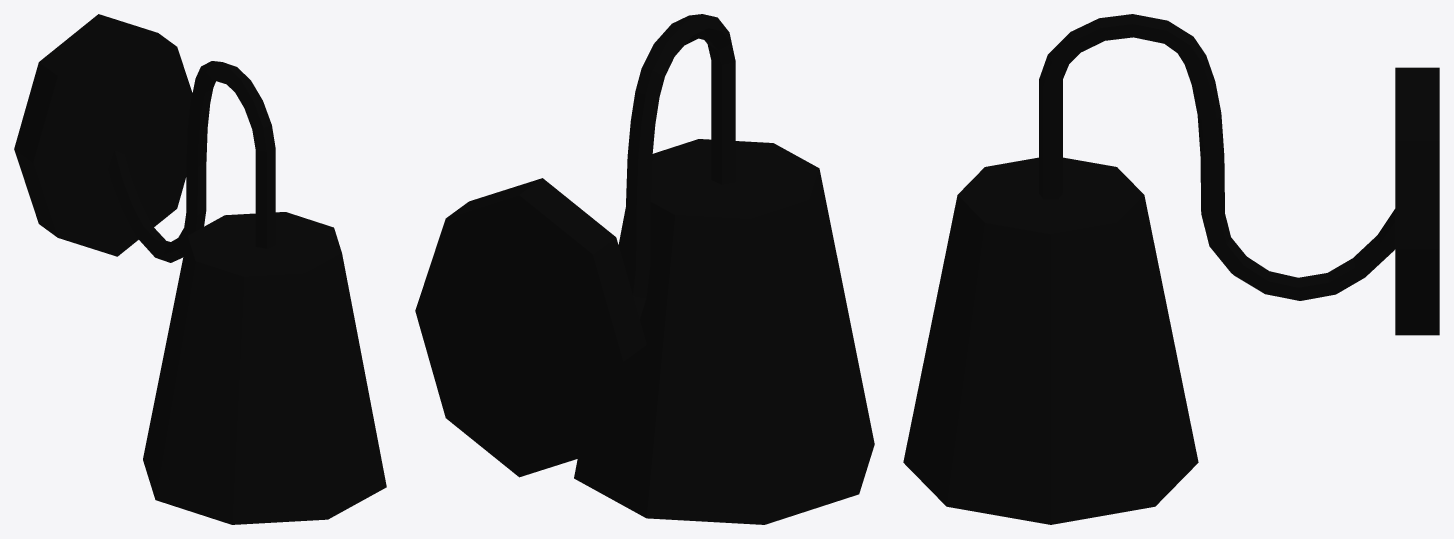
File: WallLight_On.glb
The picture shows the model from 3 angles, left to right: view 1: azimuth 30°, elevation 25°; view 2: azimuth 150°, elevation 25°; view 3: azimuth 270°, elevation 25°; orthographic projection. The views are drawn at different scales.
Visible parts, largest first — view 1: wallLight_On; view 2: wallLight_On; view 3: wallLight_On.
Boxes of the visible parts, x1=… form: wallLight_On: x1=14, y1=14, x2=386, y2=524; wallLight_On: x1=415, y1=14, x2=874, y2=524; wallLight_On: x1=903, y1=14, x2=1439, y2=524.
Size of the model in its own units: 0.3065 by 0.5295 by 0.5567.
Materials: 1 (1 with a texture image).
